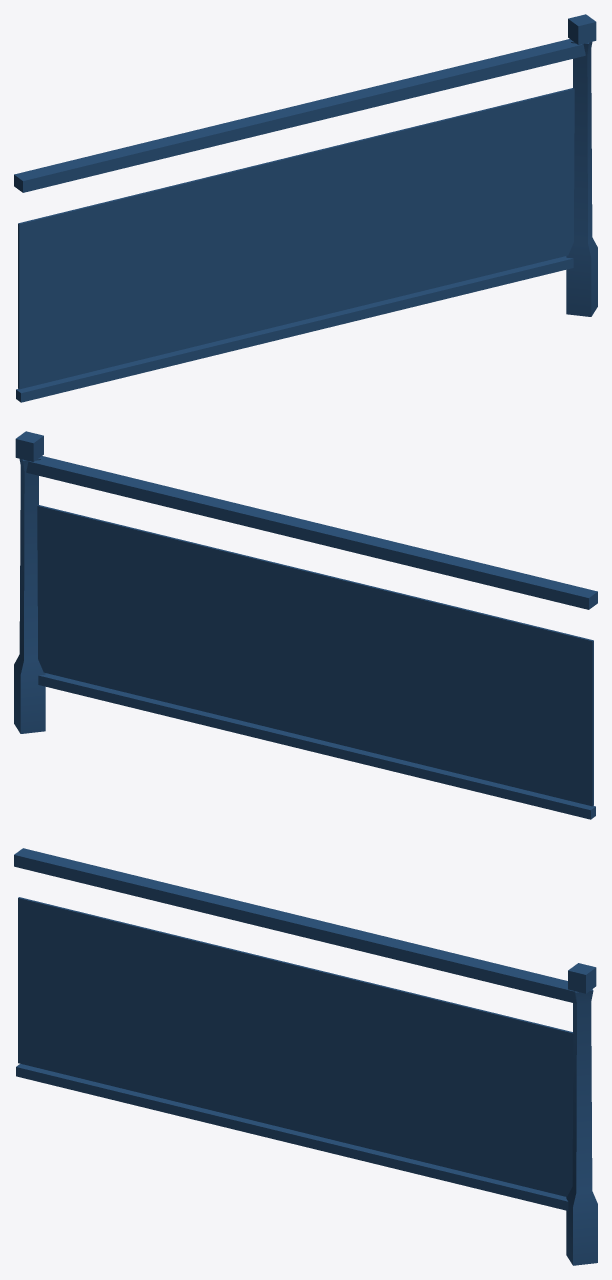
Rendered from SM_Prop_coast_promrail_0_LOD2.glb.
3 views of the same model, one above another, from view 1: azimuth 30°, elevation 25°; view 2: azimuth 150°, elevation 25°; view 3: azimuth 330°, elevation 25° (orthographic).
Parts seen in each view (by area): view 1: SM_Prop_coast_promrail_0_LOD2; view 2: SM_Prop_coast_promrail_0_LOD2; view 3: SM_Prop_coast_promrail_0_LOD2.
Part boxes in pixels (x1,y1,x2,y2): SM_Prop_coast_promrail_0_LOD2: (14,14,597,402); SM_Prop_coast_promrail_0_LOD2: (14,431,597,819); SM_Prop_coast_promrail_0_LOD2: (14,848,597,1265).
Bounding box in the file's own units: 2.57 × 1.23 × 0.14.
